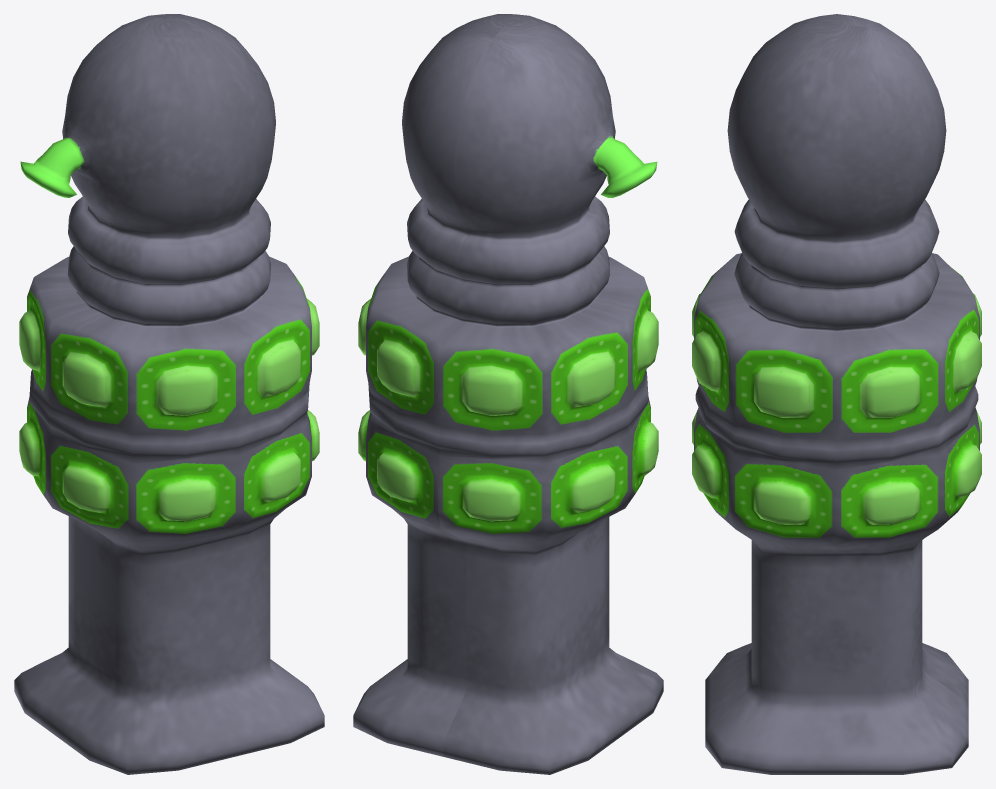
Rendered from playerpiece.fbx.
3 views of the same model, side by side, from view 1: azimuth 30°, elevation 25°; view 2: azimuth 150°, elevation 25°; view 3: azimuth 270°, elevation 25° (orthographic).
Visible parts, largest first — view 1: pSphere2; view 2: pSphere2; view 3: pSphere2.
Boxes of the visible parts, x1,y1,x2,y2 form: pSphere2: (14,14,324,774); pSphere2: (353,14,663,774); pSphere2: (692,14,981,774).
Size of the model in its own units: 5.89 by 14.52 by 5.43.
